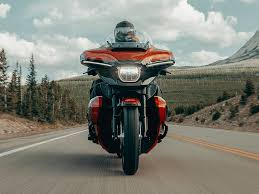motorcycle: (78, 35, 177, 176)
